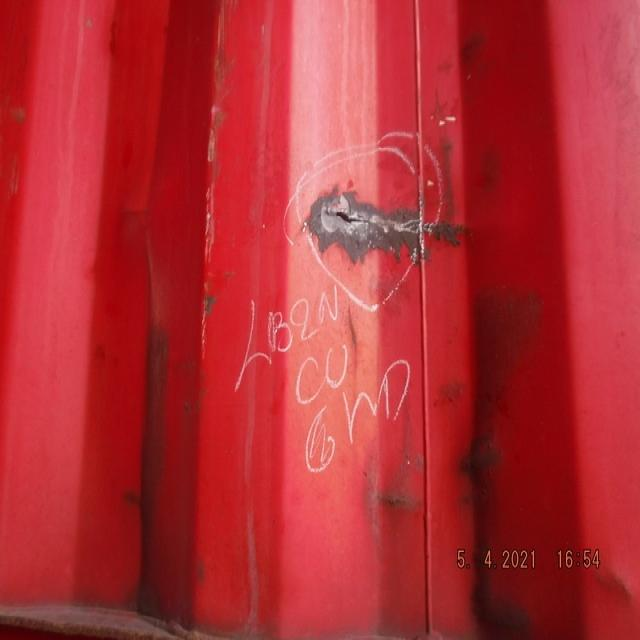hole: (312, 189, 421, 261)
